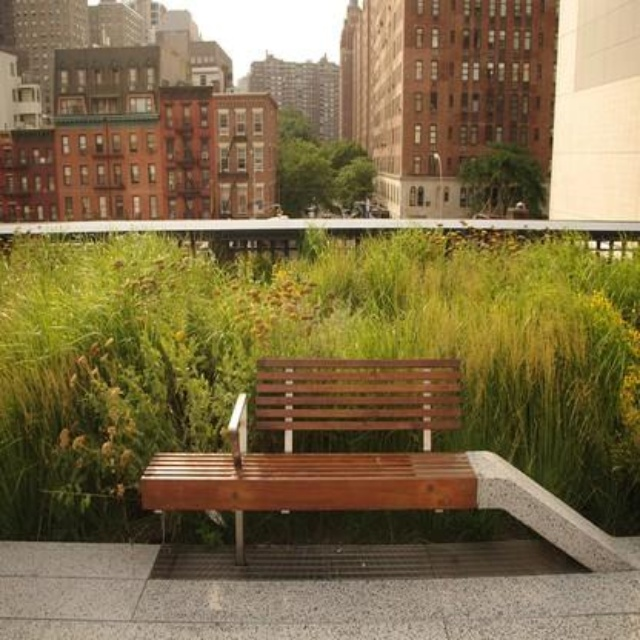obstacle: (226, 342, 488, 531)
